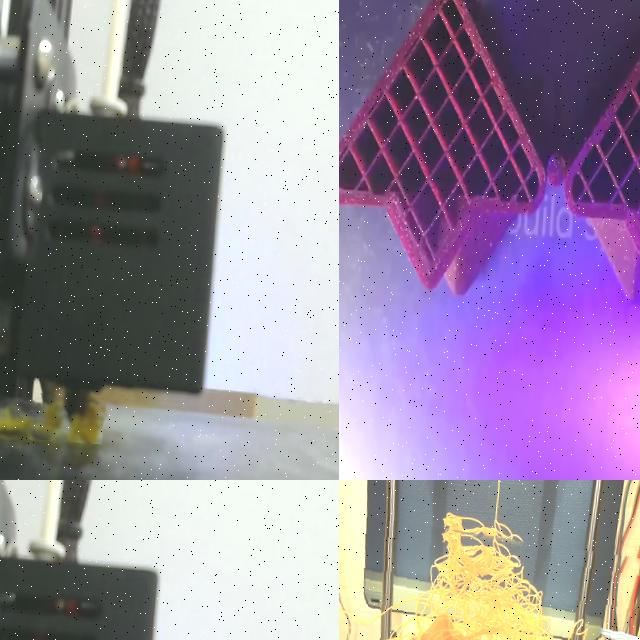spaghetti: (339, 500, 640, 640), (0, 394, 104, 444)
